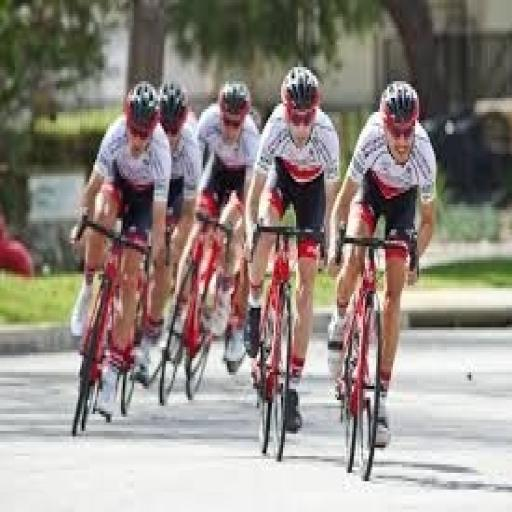cycling: (326, 78, 441, 454), (240, 64, 345, 436), (69, 78, 175, 422)
